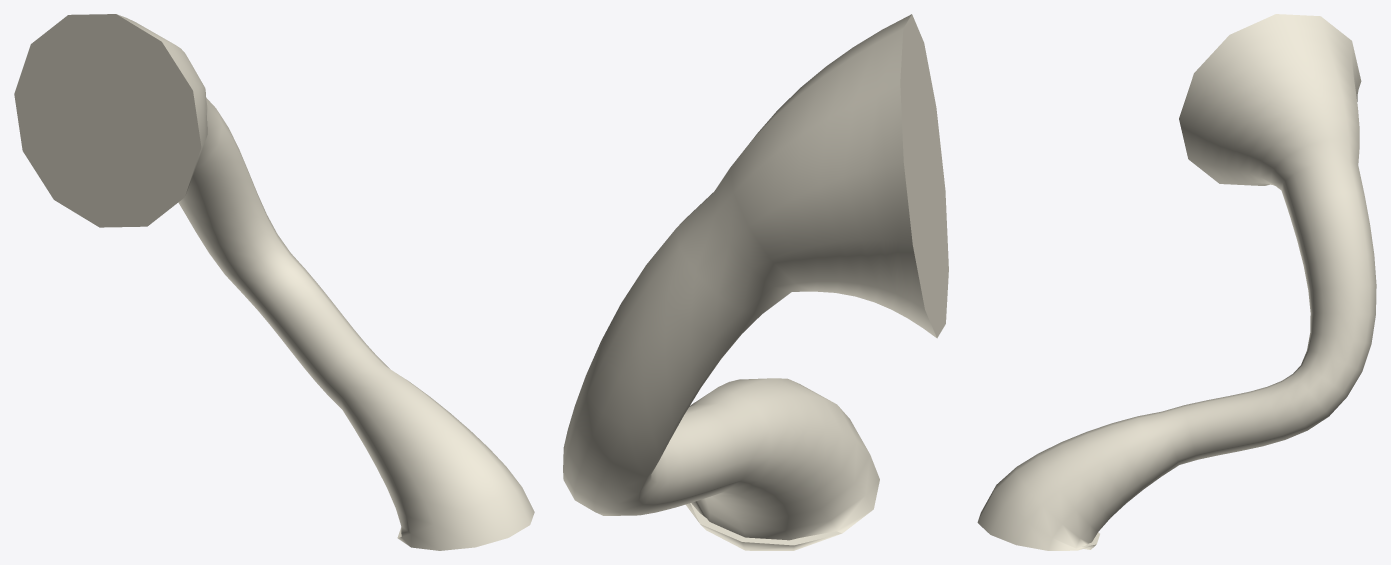
The picture shows the model from 3 angles, left to right: view 1: azimuth 30°, elevation 25°; view 2: azimuth 150°, elevation 25°; view 3: azimuth 270°, elevation 25°; orthographic projection. The views are drawn at different scales.
Parts seen in each view (by area): view 1: ZA_cf17b52b27d3322b; view 2: ZA_cf17b52b27d3322b; view 3: ZA_cf17b52b27d3322b.
Part boxes in pixels (left/top/right/bottom): ZA_cf17b52b27d3322b: left=14, top=14, right=534, bottom=550; ZA_cf17b52b27d3322b: left=563, top=14, right=948, bottom=550; ZA_cf17b52b27d3322b: left=977, top=14, right=1376, bottom=550.
Size of the model in its own units: 0.0212 by 0.0297 by 0.0246.
